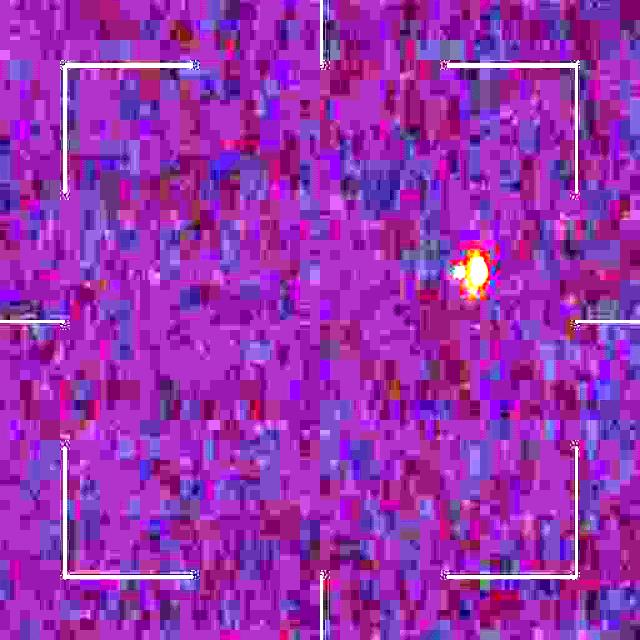bird: (456, 251, 490, 300)
